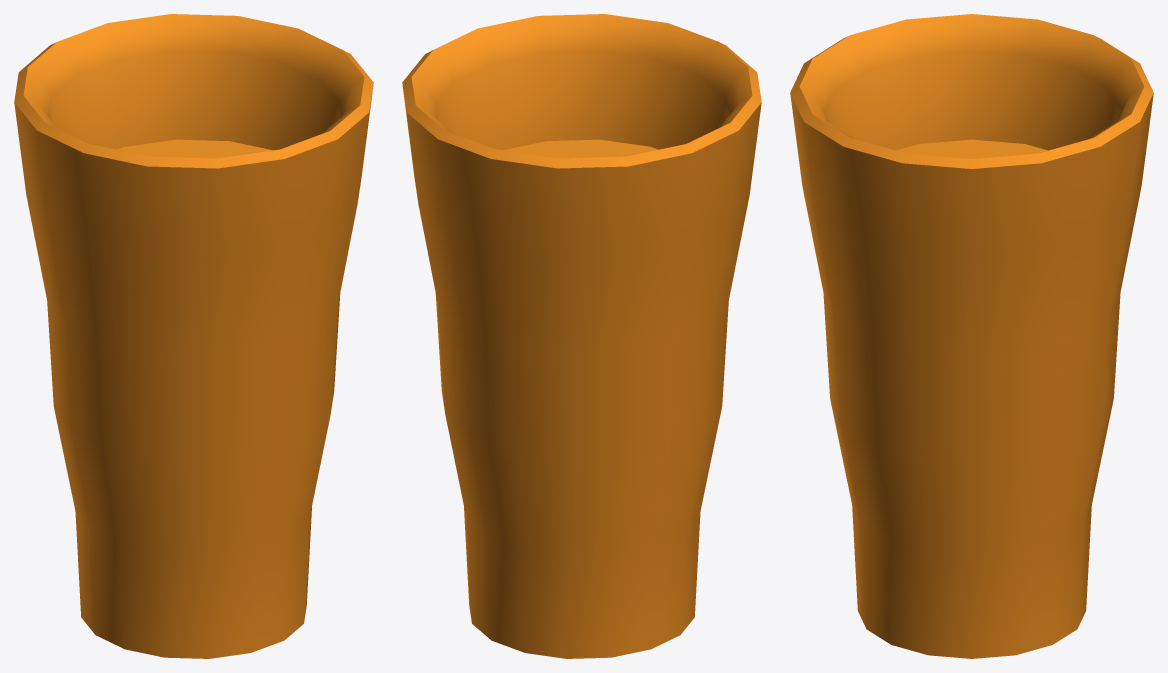
Rendered from CoralCupG.FBX.
3 views of the same model, side by side, from view 1: azimuth 30°, elevation 25°; view 2: azimuth 150°, elevation 25°; view 3: azimuth 270°, elevation 25° (orthographic).
Parts seen in each view (by area): view 1: CoralG; view 2: CoralG; view 3: CoralG.
Part boxes in pixels (<box>): CoralG: <box>14,14,373,658</box>; CoralG: <box>402,14,761,658</box>; CoralG: <box>790,14,1153,658</box>.
Bounding box in the file's own units: 58.5 × 93.52 × 58.77.
Materials: 1 (1 with a texture image).
